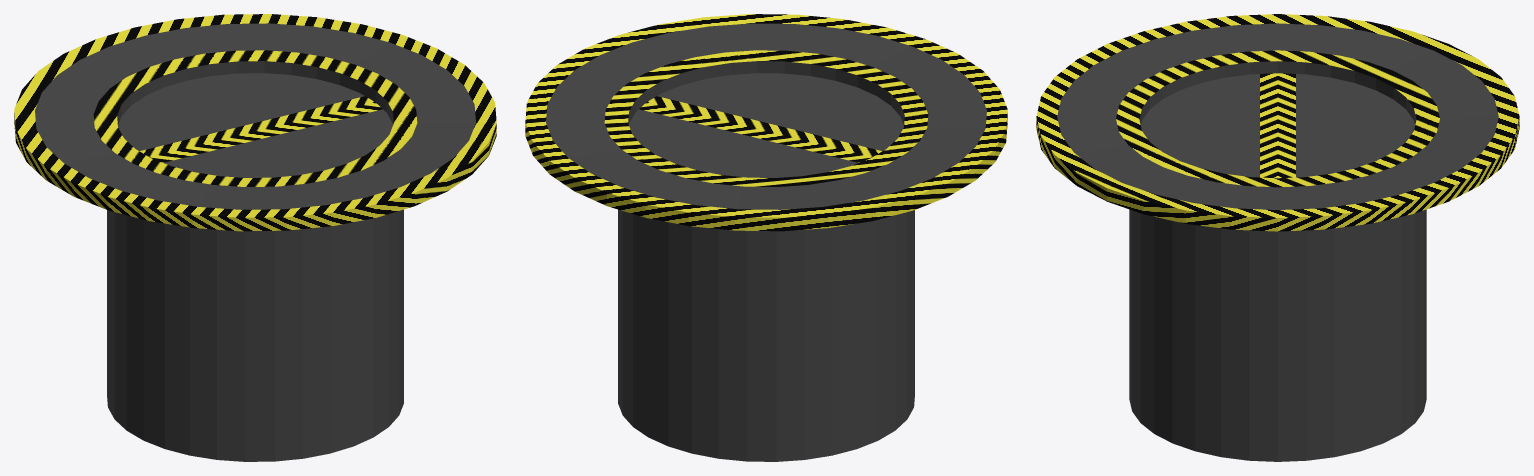
Rendered from Hole.fbx.
3 renders of one model, left to right at view 1: azimuth 30°, elevation 25°; view 2: azimuth 150°, elevation 25°; view 3: azimuth 270°, elevation 25°, orthographic.
Parts seen in each view (by area): view 1: Hole, Gate0, Gate1; view 2: Hole, Gate1, Gate0; view 3: Hole, Gate0, Gate1.
Boxes of the visible parts, left/top/right/bottom form: Hole: left=14, top=14, right=496, bottom=461; Gate0: left=118, top=73, right=374, bottom=157; Gate1: left=150, top=102, right=392, bottom=177; Hole: left=525, top=14, right=1007, bottom=461; Gate1: left=647, top=73, right=903, bottom=157; Gate0: left=629, top=102, right=871, bottom=177; Hole: left=1036, top=14, right=1519, bottom=461; Gate0: left=1278, top=73, right=1414, bottom=178; Gate1: left=1141, top=73, right=1277, bottom=178.
Bounding box in the file's own units: 325 × 210 × 325.
